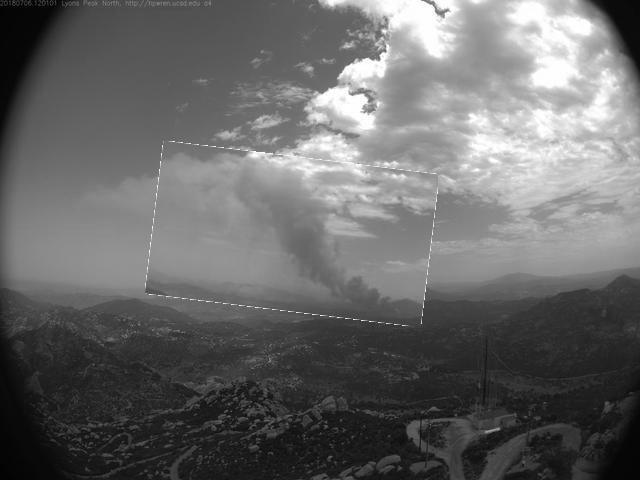smoke: (150, 150, 436, 320)
